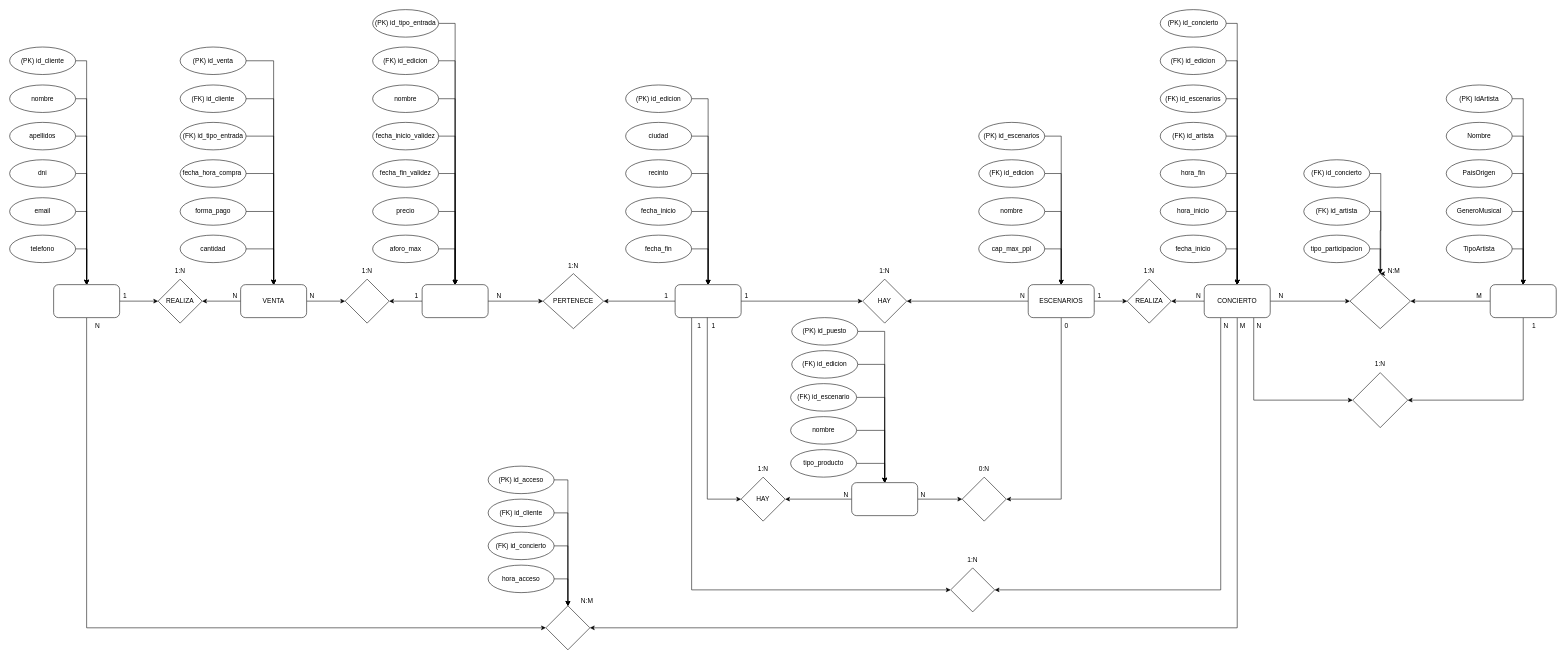
Some shapes in this 1566 by 659 pixel diagram are drawn without their labels. The shapes that lost their labels are listed below. From the top down, each one's box as (x1, y1, x2, y2) in pixels, then its label:
(53, 284, 120, 318): CLIENTE
(345, 279, 389, 323): COMPRA
(422, 284, 488, 318): TIPO ENTRADA
(675, 284, 741, 318): EDICION
(1349, 273, 1410, 329): ACTUA INVITADO
(1490, 284, 1556, 318): ARTISTA
(1352, 372, 1408, 428): ACTUA PRINCIPAL
(851, 482, 918, 516): PUESTO
(962, 477, 1006, 521): UBICADO
(950, 567, 995, 612): TIENE
(545, 605, 590, 650): ACCESO
